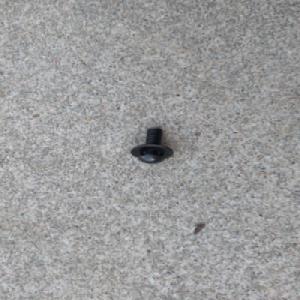BoltWasher: (129, 126, 174, 164)
